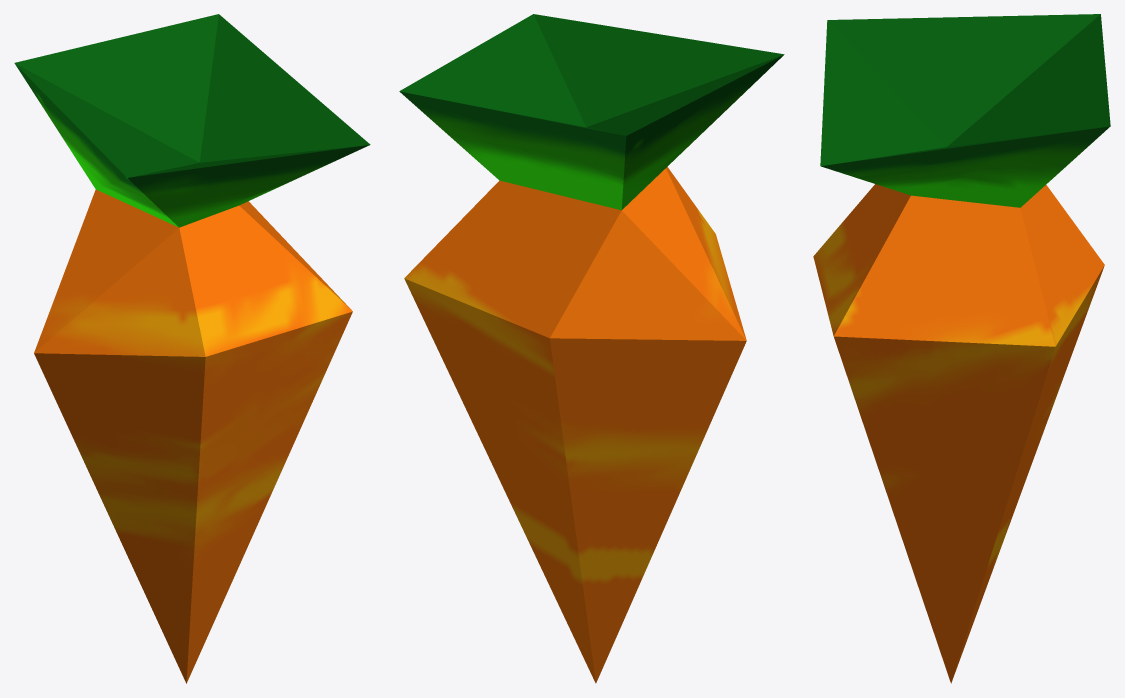
Rendered from Carrot_0_final.fbx.
3 renders of one model, left to right at view 1: azimuth 30°, elevation 25°; view 2: azimuth 150°, elevation 25°; view 3: azimuth 270°, elevation 25°, orthographic. The views are drawn at different scales.
Parts seen in each view (by area): view 1: Cube; view 2: Cube; view 3: Cube.
Boxes of the visible parts, x1,y1,x2,y2 form: Cube: (14,14,370,683); Cube: (399,14,784,683); Cube: (813,14,1110,683).
Size of the model in its own units: 132 by 149 by 304.
1 material, 1 textured.
